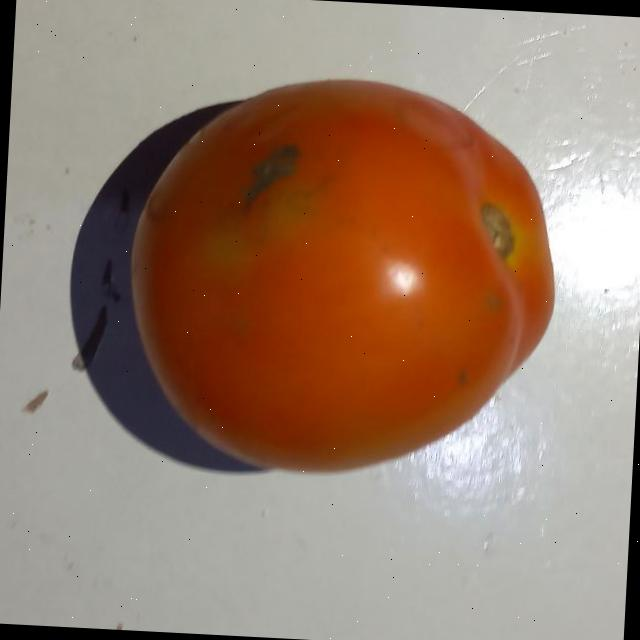tomato: (112, 59, 569, 488)
